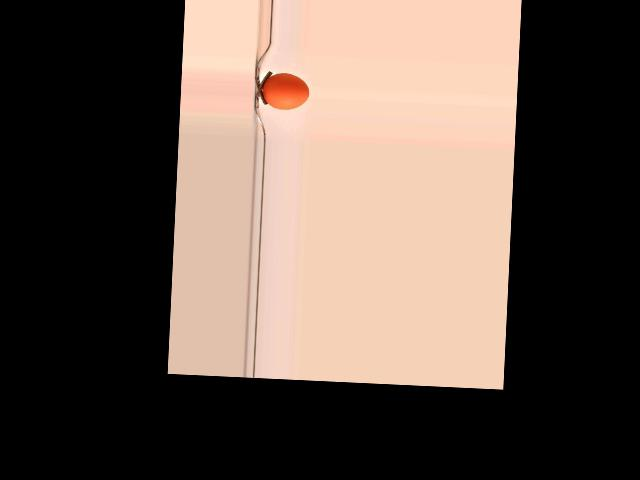egg: (261, 72, 309, 111)
